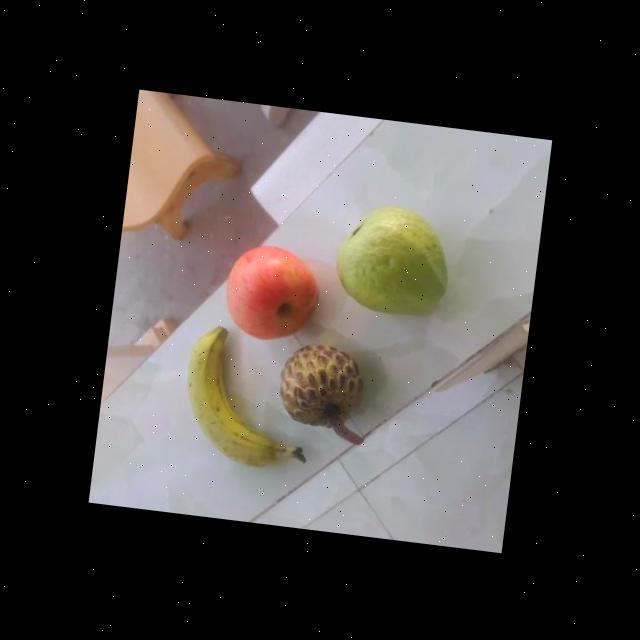Sakya fruit: (274, 334, 372, 438)
apple: (220, 236, 324, 348)
banana: (175, 313, 306, 474)
guava: (334, 195, 454, 319)
